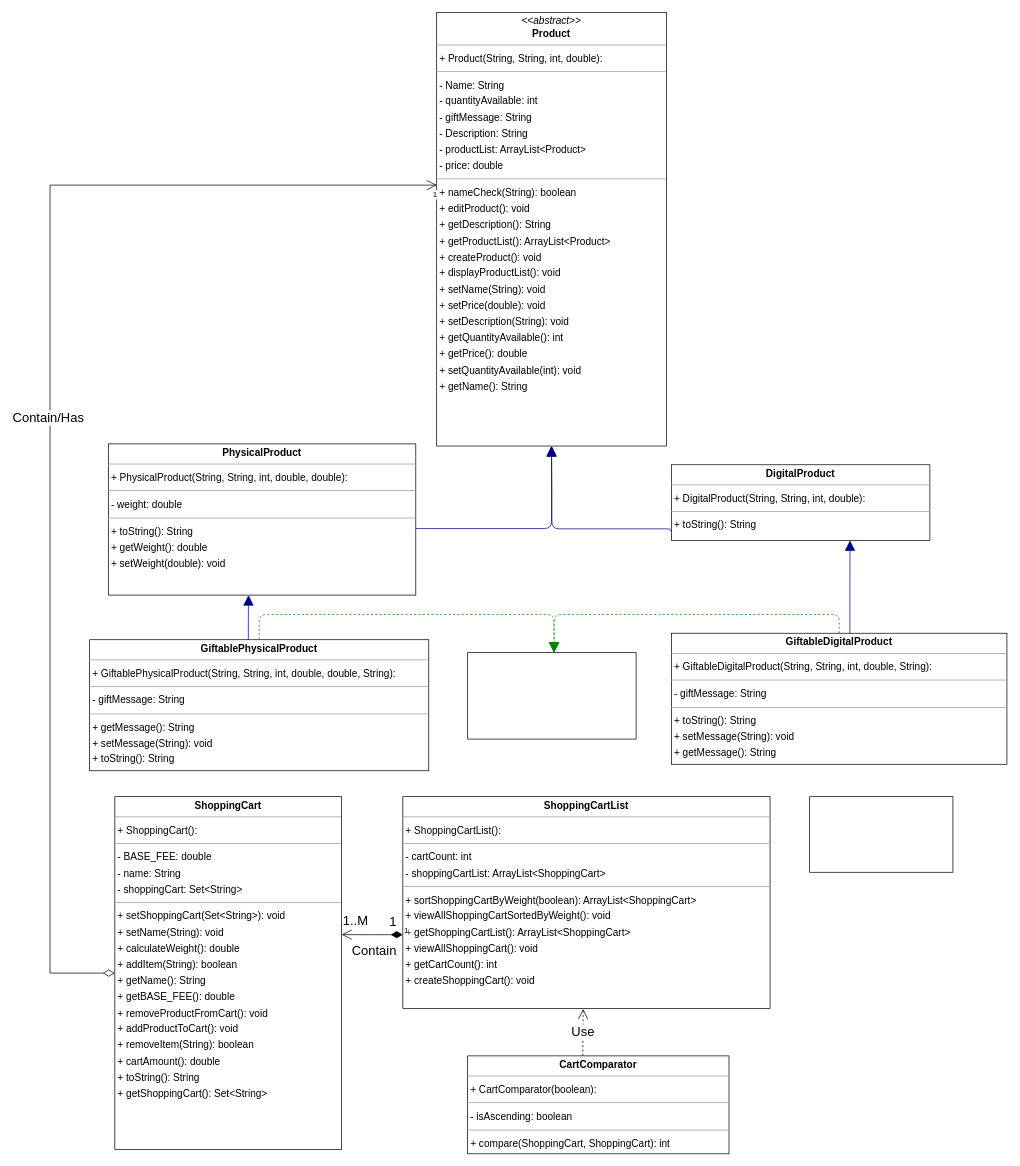
The diagram is 1020 pixels wide and 1166 high, and some of its shapes have lost their labels. Here are the shapes that lost their labels. From the top down, the centre of each, then its label:
At [551,695]: "<<interface>> Gifts + setMessage(String): void + getMessage(): String".
At [881,834]: "Main + Main(): + main(String[]): void".
